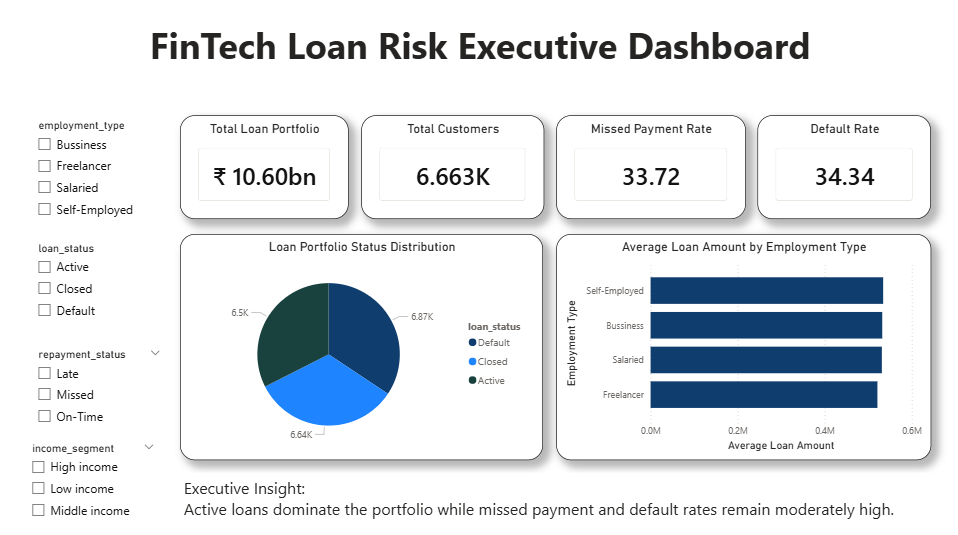

This screenshot's page, from the dashboard's own definition file:
{"tool":"powerbi","page":{"name":"executive_overviews","canvas":[1280,720],"ordinal":0},"visuals":[{"type":"shape","box":[221.1,314,1021.1,317.5],"z":0},{"type":"shape","box":[226.3,154.4,1015.8,189.5],"z":1000},{"type":"cardVisual","title":"Total Loan Portfolio","fields":{"Data":["Sum(customer_loan_analytics (2).loan_amount)"]},"box":[240.4,154.4,224.6,138.6],"z":2000},{"type":"cardVisual","title":"Total Customers","fields":{"Data":["Count(customer_loan_analytics (2).customer_id)"]},"box":[481.3,154.4,243.9,138.6],"z":3000},{"type":"cardVisual","title":"Missed Payment Rate","fields":{"Data":["customer_loan_analytics.Missed Payment Rate"]},"box":[741.5,154.4,252.6,138.6],"z":4000},{"type":"cardVisual","title":"Default Rate","fields":{"Data":["customer_loan_analytics.default rate"]},"box":[1010.5,154.4,231.6,138.6],"z":5000},{"type":"pieChart","title":"Loan Portfolio Status Distribution","fields":{"Category":["customer_loan_analytics.loan_status"],"Y":["CountNonNull(customer_loan_analytics.loan_status)"]},"box":[240.4,314,484.2,301.8],"z":6000},{"type":"clusteredBarChart","title":"Average Loan Amount by Employment Type","fields":{"Category":["customer_loan_analytics.employment_type"],"Y":["Avg(customer_loan_analytics.loan_amount)"]},"box":[742.1,314,500,301.8],"z":7000},{"type":"shape","box":[19.3,154.4,207,556.1],"z":8000},{"type":"slicer","title":"Employment Type","fields":{"Values":["customer_loan_analytics.employment_type"]},"box":[38.6,154.4,171.9,150.9],"z":9000},{"type":"slicer","title":"Loan Status","fields":{"Values":["customer_loan_analytics.loan_status"]},"box":[38.6,317.5,187.7,142.1],"z":10000},{"type":"slicer","fields":{"Values":["customer_loan_analytics.repayment_status"]},"box":[38.6,459.6,187.7,124.6],"z":11000},{"type":"slicer","fields":{"Values":["customer_loan_analytics.income_segment"]},"box":[29.8,584.2,187.7,135.1],"z":12000},{"type":"shape","box":[38.6,0,1203.5,150.9],"z":13000},{"type":"textbox","box":[38.6,22.8,1203.5,115.8],"z":14000},{"type":"textbox","box":[240.4,631.6,1001.8,78.9],"z":15000}]}

Visuals, with their boxes in screenshot pixels (x1, y1, x2, y2), scaled from the page's 1280x720 canvas onto the 958x535 screenshot:
shape: 165 233 930 469
shape: 169 115 930 256
"Total Loan Portfolio" cardVisual: 180 115 348 218
"Total Customers" cardVisual: 360 115 543 218
"Missed Payment Rate" cardVisual: 555 115 744 218
"Default Rate" cardVisual: 756 115 930 218
"Loan Portfolio Status Distribution" pieChart: 180 233 542 458
"Average Loan Amount by Employment Type" clusteredBarChart: 555 233 930 458
shape: 14 115 169 528
"Employment Type" slicer: 29 115 158 227
"Loan Status" slicer: 29 236 169 342
slicer - customer_loan_analytics.repayment_status: 29 342 169 434
slicer - customer_loan_analytics.income_segment: 22 434 163 534
shape: 29 0 930 112
textbox: 29 17 930 103
textbox: 180 469 930 528
